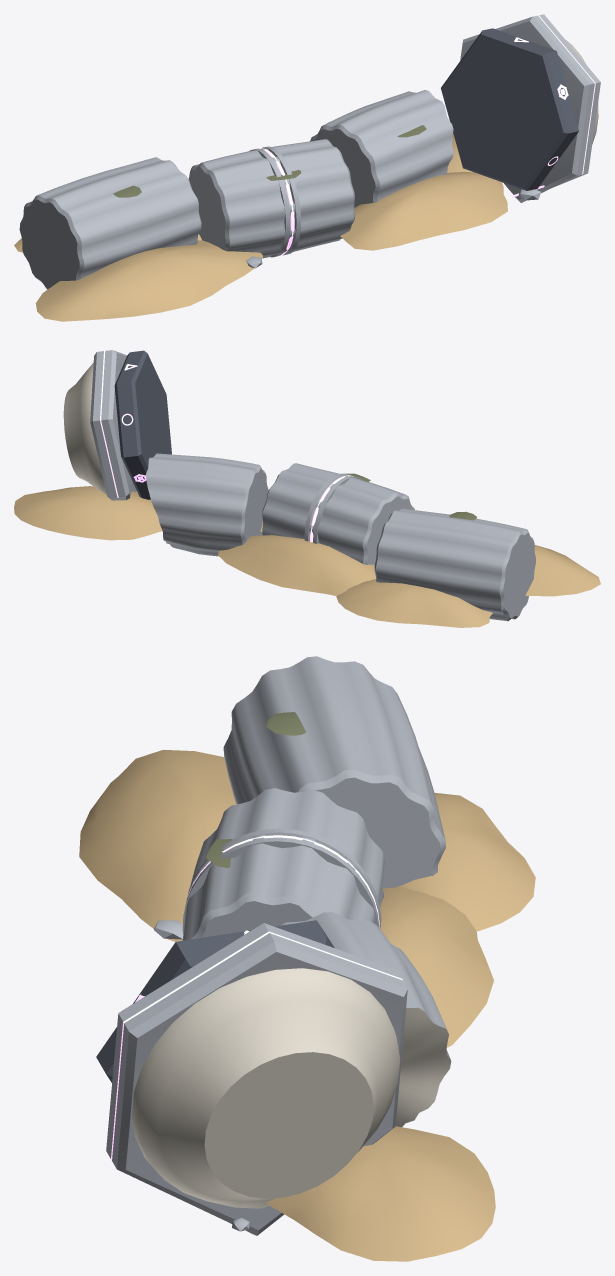
Rendered from deco_column_fallen.fbx.
3 views of the same model, one above another, from view 1: azimuth 30°, elevation 25°; view 2: azimuth 150°, elevation 25°; view 3: azimuth 270°, elevation 25° (orthographic). The views are drawn at different scales.
Visible parts, largest first — view 1: Column_Fallen_Capital, Column_Fallen_Drift, Column_Fallen_DrumA, Column_Fallen_DrumB, Column_Fallen_DrumC; view 2: Column_Fallen_Drift, Column_Fallen_DrumA, Column_Fallen_Capital, Column_Fallen_DrumC, Column_Fallen_DrumB; view 3: Column_Fallen_Capital, Column_Fallen_Drift, Column_Fallen_DrumA, Column_Fallen_DrumB, Column_Fallen_DrumC.
Boxes of the visible parts, <box> form: Column_Fallen_Capital: <box>441,14,600,202</box>; Column_Fallen_Drift: <box>14,133,541,321</box>; Column_Fallen_DrumA: <box>19,157,201,289</box>; Column_Fallen_DrumB: <box>188,139,355,258</box>; Column_Fallen_DrumC: <box>310,90,453,207</box>; Column_Fallen_Drift: <box>14,486,600,627</box>; Column_Fallen_DrumA: <box>374,508,535,621</box>; Column_Fallen_Capital: <box>63,350,171,500</box>; Column_Fallen_DrumC: <box>146,453,268,556</box>; Column_Fallen_DrumB: <box>262,463,414,564</box>; Column_Fallen_Capital: <box>96,920,407,1235</box>; Column_Fallen_Drift: <box>79,750,535,1261</box>; Column_Fallen_DrumA: <box>223,656,445,888</box>; Column_Fallen_DrumB: <box>182,788,384,940</box>; Column_Fallen_DrumC: <box>280,912,451,1127</box>.
Size of the model in its own units: 566 by 167 by 213.
